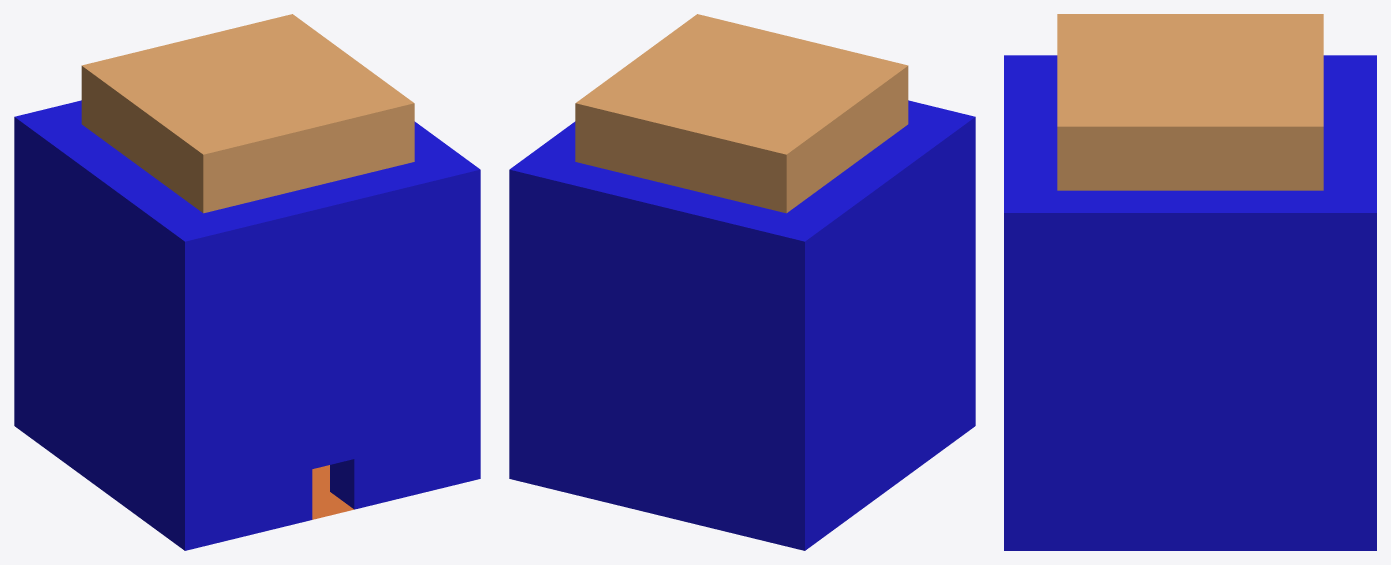
File: shitHouse.fbx
3 views of the same model, side by side, from view 1: azimuth 30°, elevation 25°; view 2: azimuth 150°, elevation 25°; view 3: azimuth 270°, elevation 25° (orthographic). The views are drawn at different scales.
Visible parts, largest first — view 1: Cube; view 2: Cube; view 3: Cube.
Part boxes in pixels (<box>): Cube: <box>14,14,480,550</box>; Cube: <box>509,14,975,550</box>; Cube: <box>1004,14,1376,550</box>.
Size of the model in its own units: 200 by 246 by 200.
